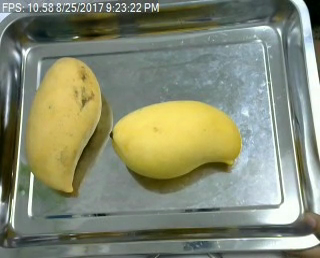Mango: (23, 56, 103, 195), (109, 98, 242, 179)
